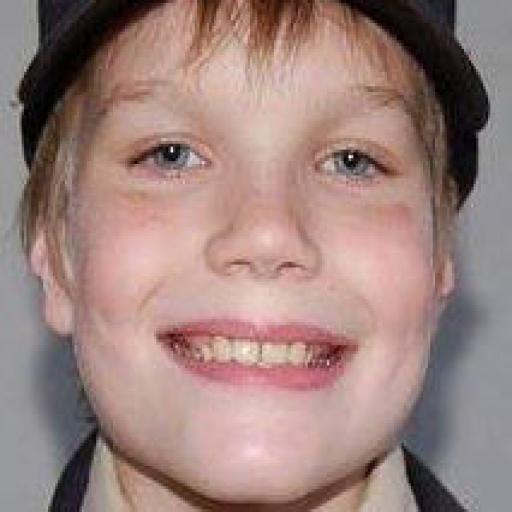Autism: (32, 14, 466, 479)
